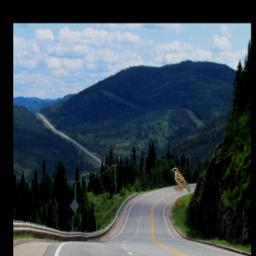Sparrow: (172, 167, 192, 193)
